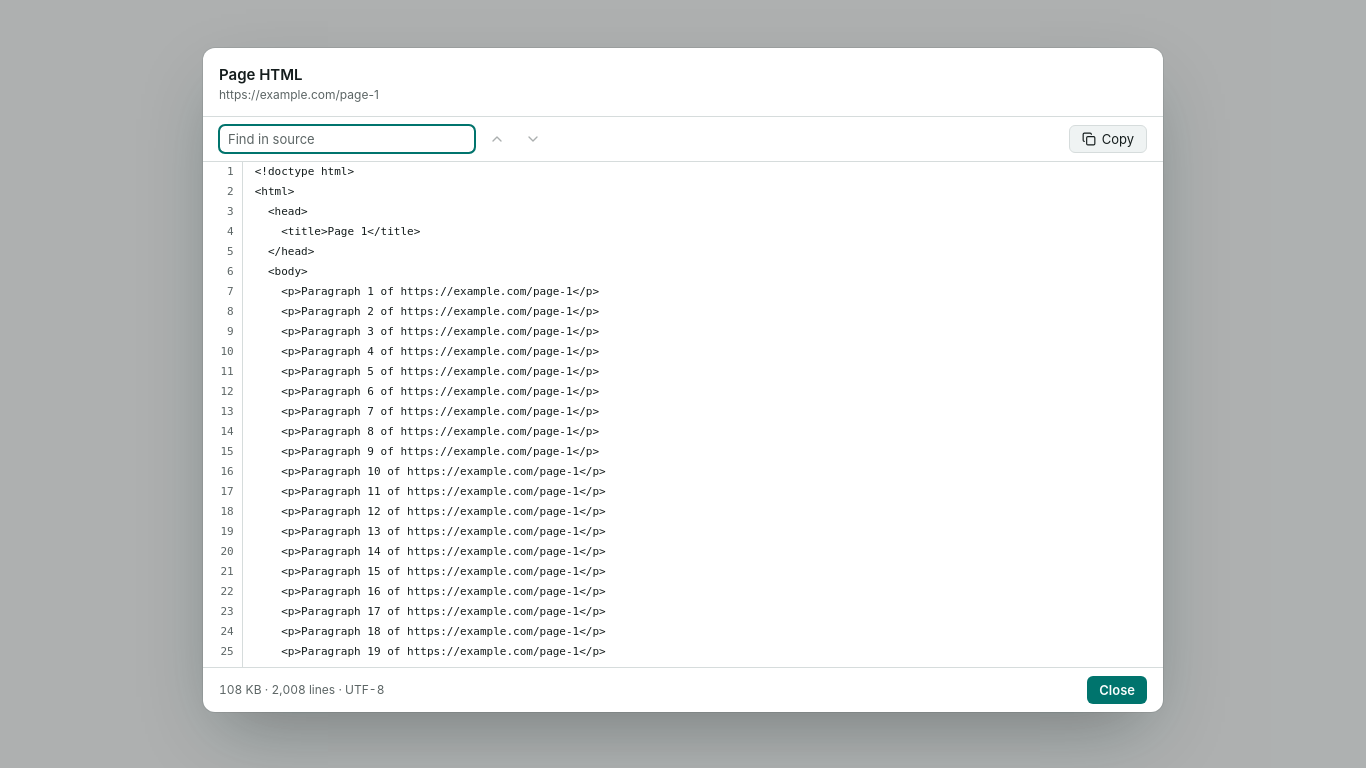
Test: copy › a_refused_copy_says_so
Click the button "Copy".
click(1108, 139)  # box [1069,125,1147,153]
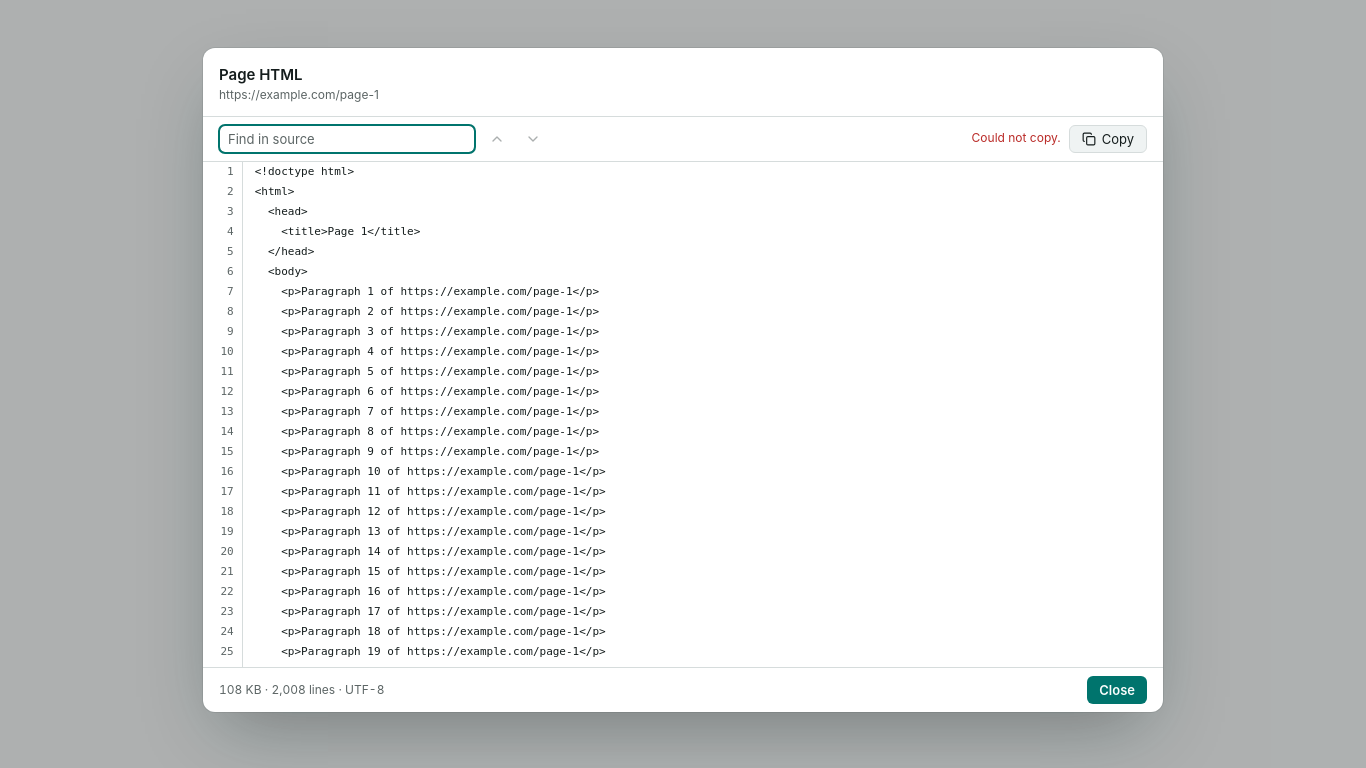
Expected: the text "Could not copy." is shown, [972,130,1061,147]
